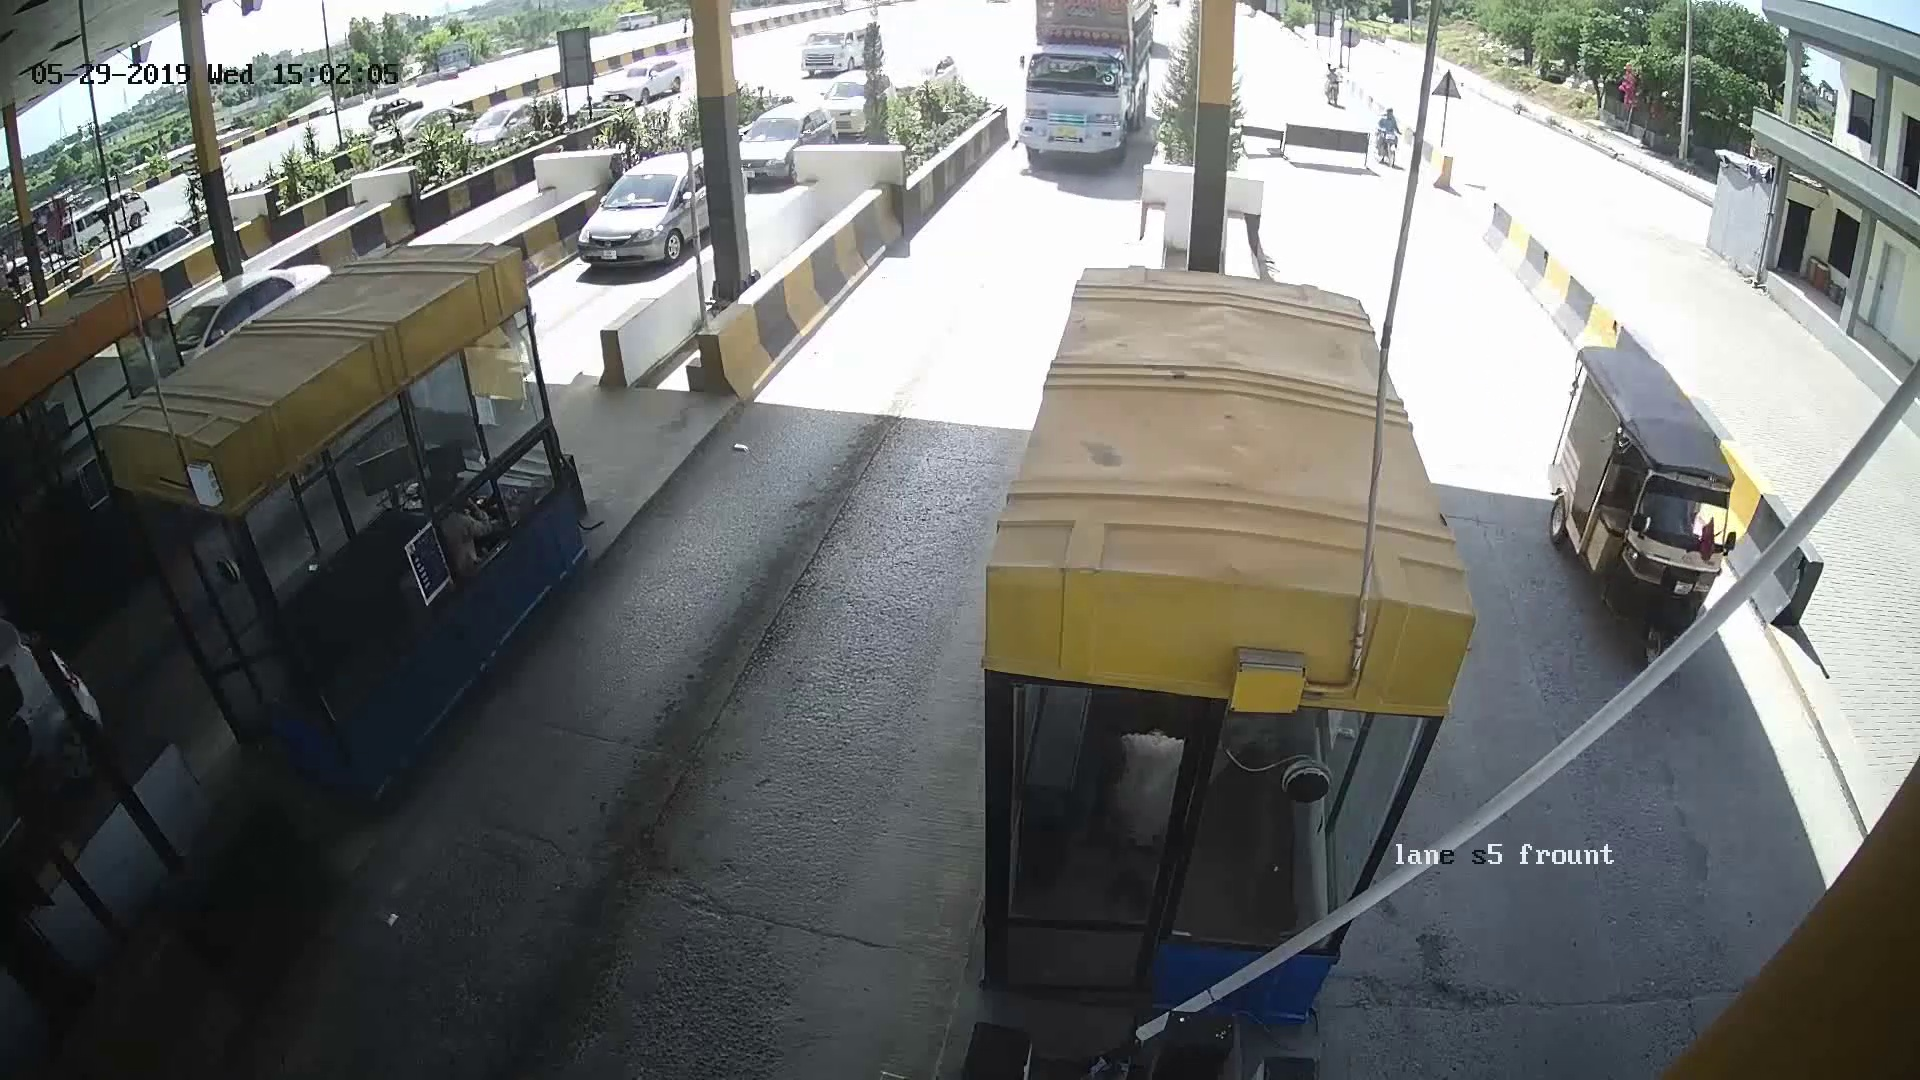truck: (1009, 16, 1145, 174)
